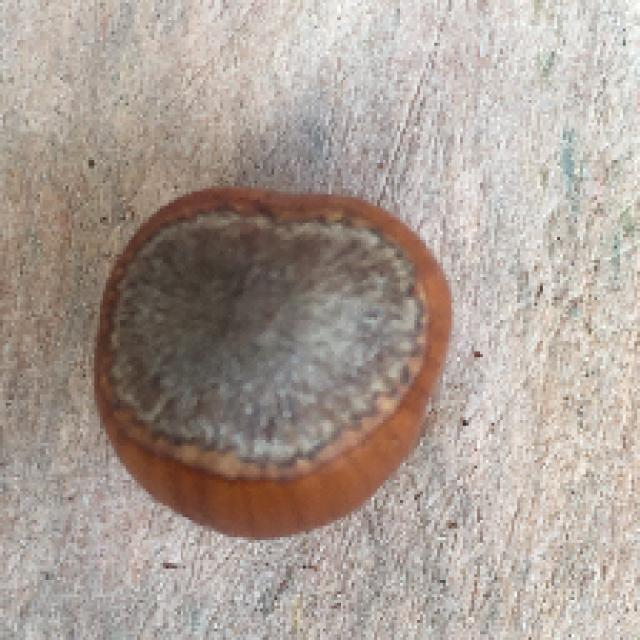qualityHazelnut: (97, 187, 461, 536)
